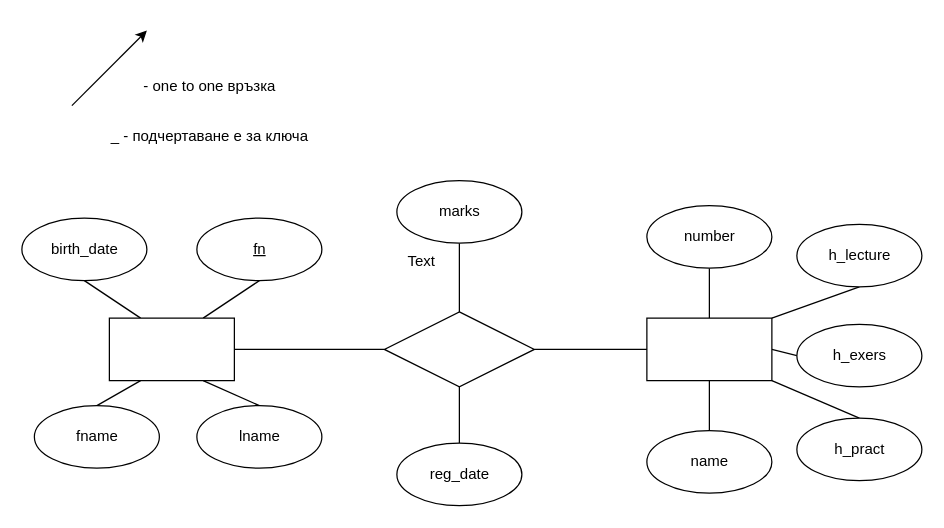
Some shapes in this 944 by 528 pixel diagram are drawn without their labels. Here are the shapes that lost their labels. From the top down, the centre of each, then its label:
At (x=171, y=349): "Students".
At (x=458, y=349): "enroll".
At (x=709, y=349): "Courses".
